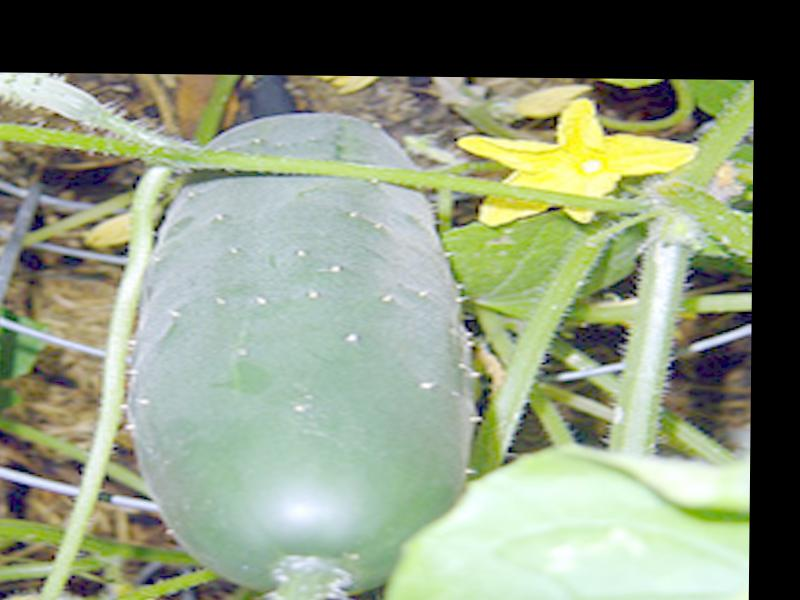Cucumber: (128, 115, 476, 600)
